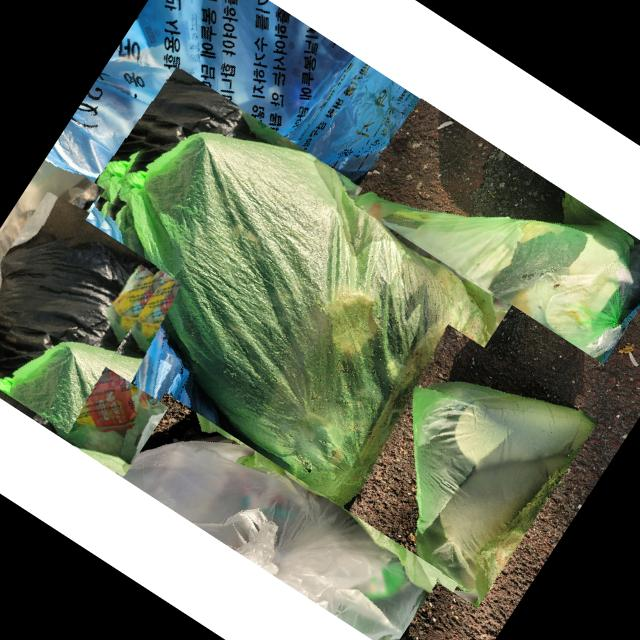general_trashbag: (113, 132, 493, 516), (352, 193, 631, 357), (410, 381, 595, 588), (43, 353, 166, 460)
other_trashbag: (43, 0, 415, 201), (112, 441, 422, 640), (0, 241, 138, 375), (0, 160, 103, 274)
